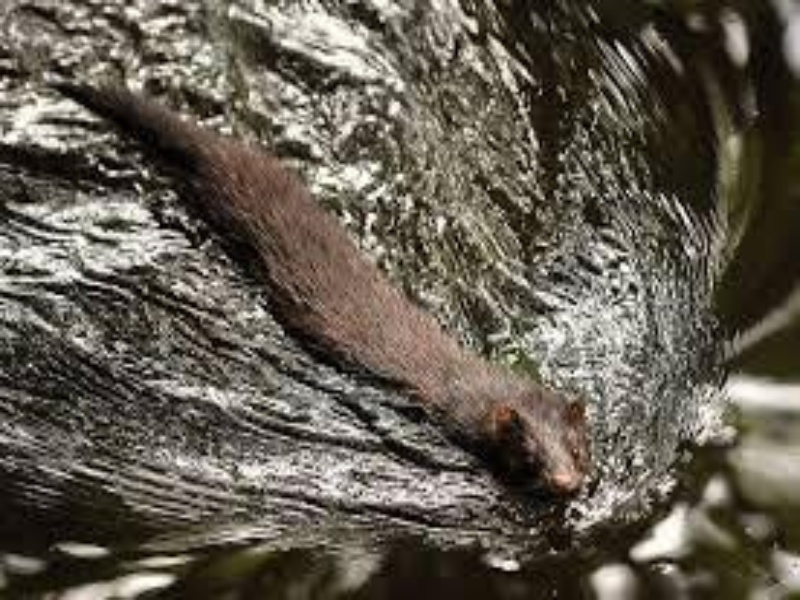minkish: (45, 74, 597, 511)
